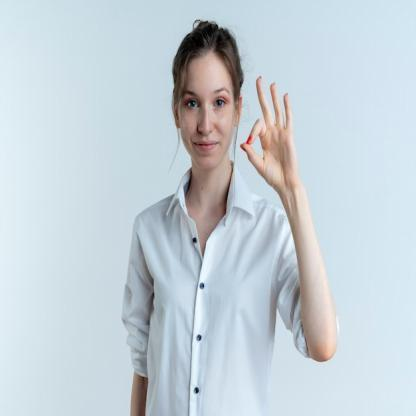ok: (238, 74, 298, 196)
